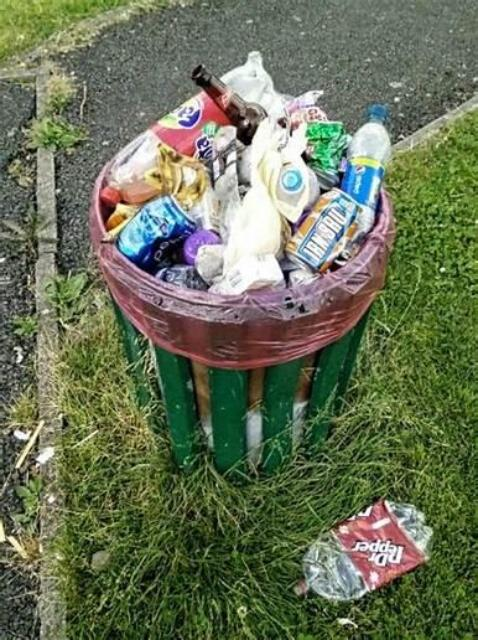Garbage: (100, 51, 391, 294), (304, 500, 432, 601)
Glass_bottle: (191, 64, 268, 144)
Plastic: (220, 51, 276, 109)
Plastic_bottle: (100, 91, 230, 213), (304, 500, 432, 601), (341, 103, 392, 211), (276, 157, 320, 223)
Plastic_wraper: (305, 121, 351, 188)
can: (115, 193, 196, 275), (286, 189, 360, 271)
